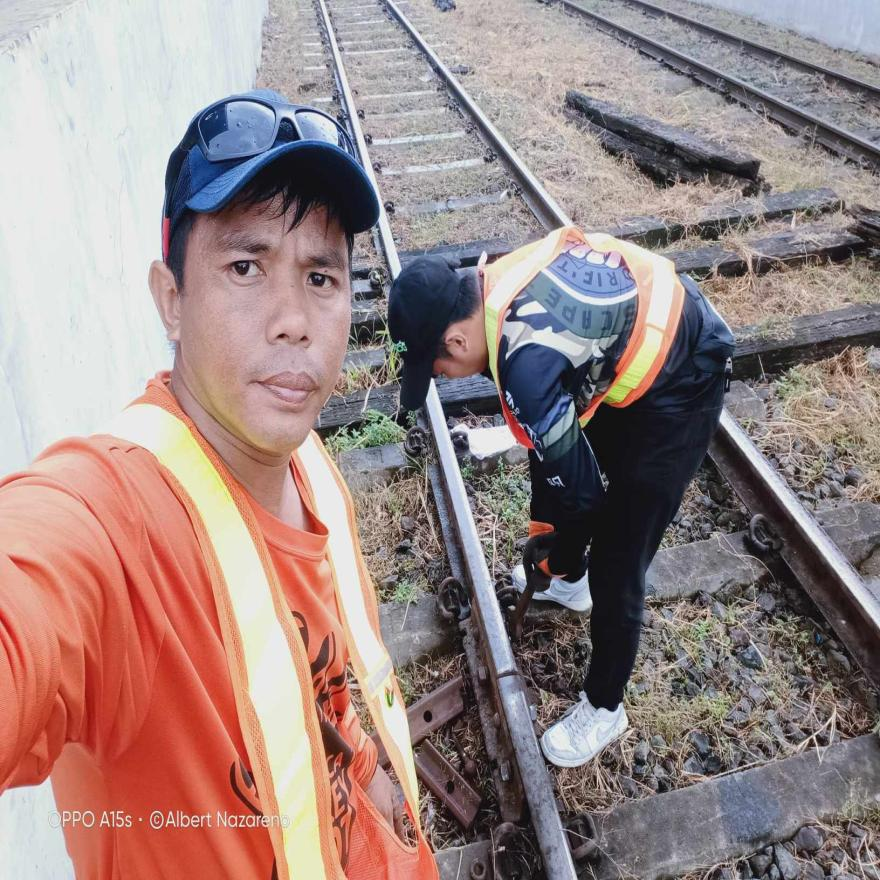railway-gap: (470, 633, 540, 718)
